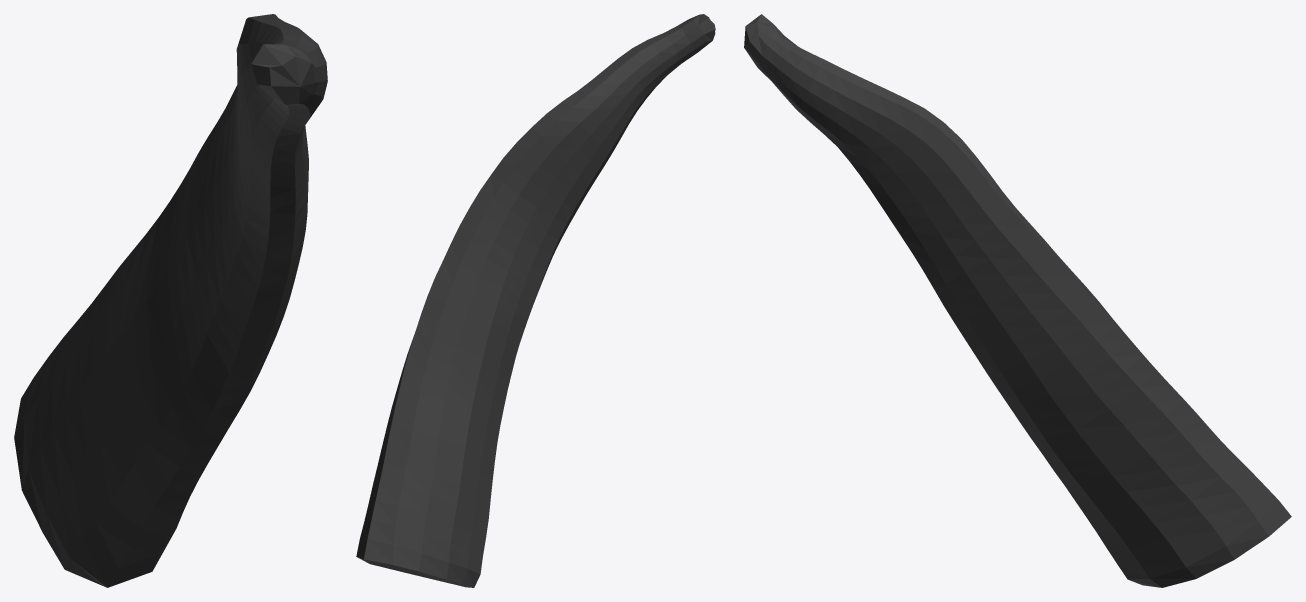
File: Sternocephalic_mast.glb
3 views of the same model, side by side, from view 1: azimuth 30°, elevation 25°; view 2: azimuth 150°, elevation 25°; view 3: azimuth 270°, elevation 25° (orthographic). The views are drawn at different scales.
Parts seen in each view (by area): view 1: Sternocephalic_mast; view 2: Sternocephalic_mast; view 3: Sternocephalic_mast.
Boxes of the visible parts, <box> form: Sternocephalic_mast: <box>14,14,327,587</box>; Sternocephalic_mast: <box>356,14,715,587</box>; Sternocephalic_mast: <box>744,14,1291,587</box>.
Size of the model in its own units: 0.3027 by 0.8995 by 0.8581.
Materials: 1 (1 with a texture image).
